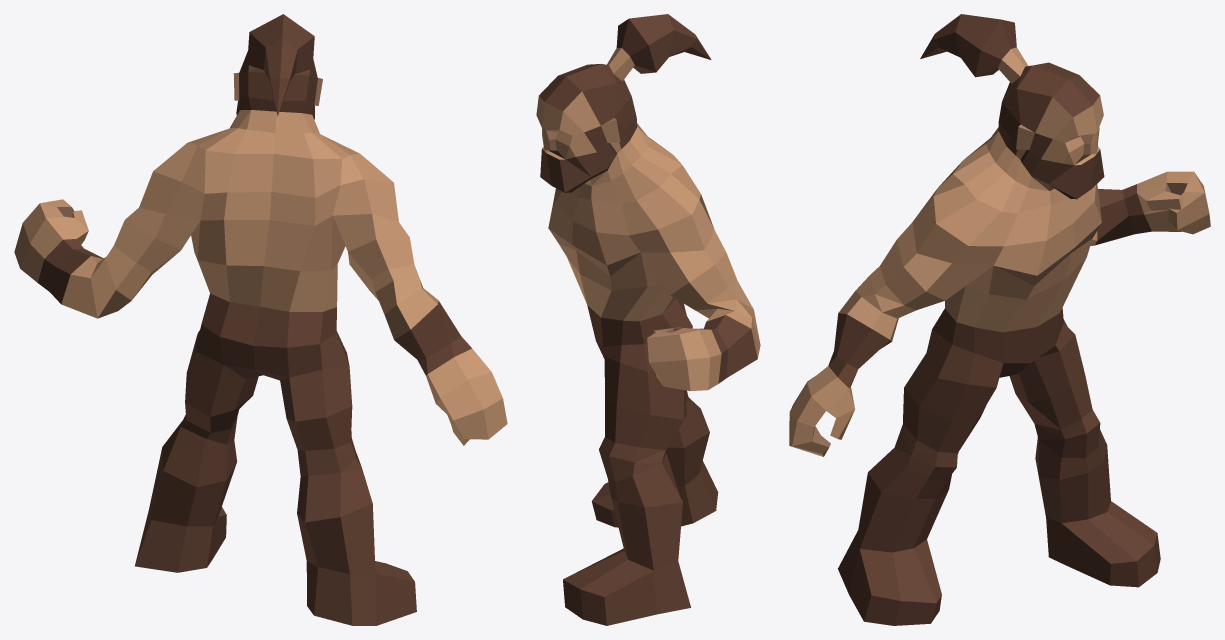
File: SM_Hero.fbx
3 renders of one model, left to right at view 1: azimuth 30°, elevation 25°; view 2: azimuth 150°, elevation 25°; view 3: azimuth 270°, elevation 25°, orthographic. The views are drawn at different scales.
Parts seen in each view (by area): view 1: SM_Hero; view 2: SM_Hero; view 3: SM_Hero.
Boxes of the visible parts, x1,y1,x2,y2 form: SM_Hero: (14, 14, 507, 625); SM_Hero: (536, 14, 760, 625); SM_Hero: (789, 14, 1210, 625).
Size of the model in its own units: 1.16 by 2.06 by 1.38.
